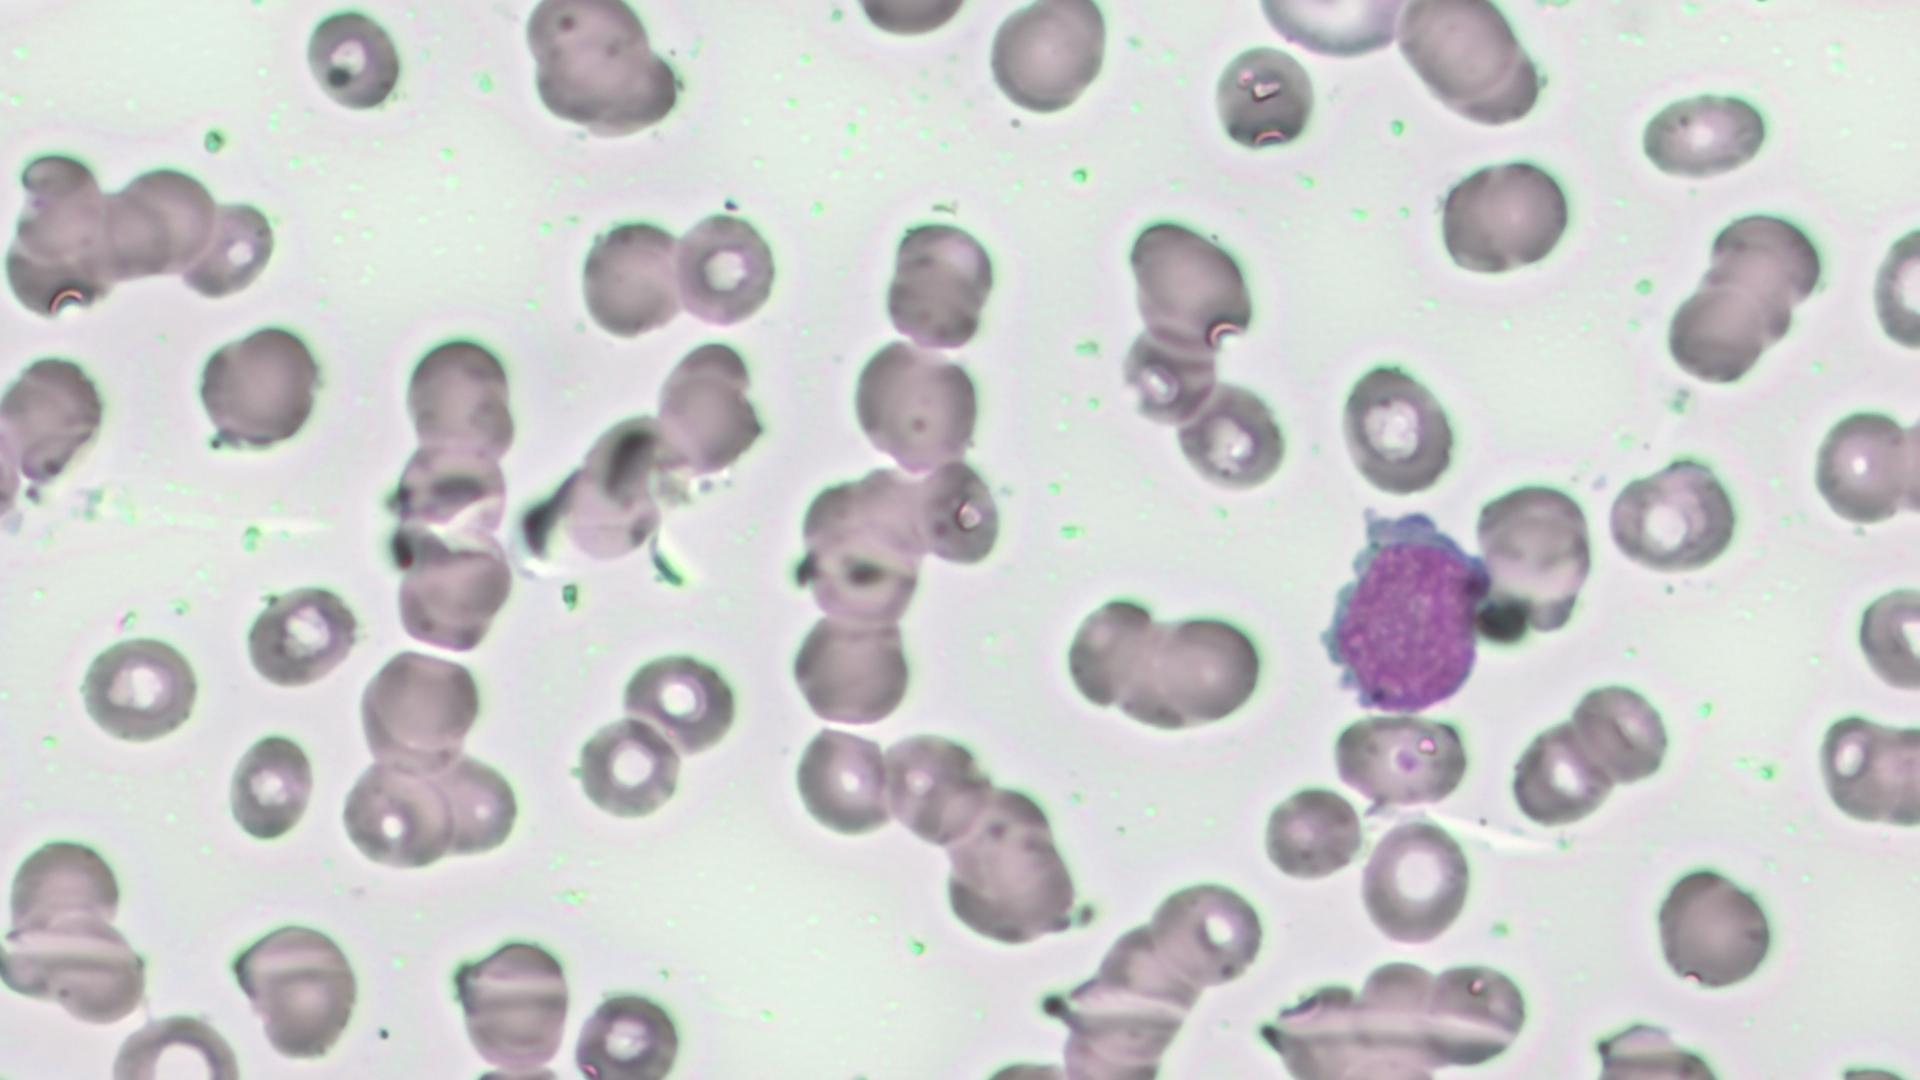Platelets: (21, 483, 40, 505)
RBC: (517, 5, 684, 140), (793, 473, 932, 628), (1122, 211, 1261, 361), (225, 916, 368, 1062), (847, 332, 986, 473), (1429, 152, 1575, 280), (1335, 352, 1461, 498), (446, 934, 579, 1071), (1647, 860, 1776, 994), (194, 318, 322, 451), (785, 604, 918, 729), (562, 409, 670, 563), (1604, 454, 1742, 574), (880, 214, 998, 352), (942, 823, 1077, 943), (353, 645, 484, 767), (404, 330, 517, 468), (982, 0, 1112, 121), (1058, 589, 1176, 721), (1629, 80, 1778, 185), (1356, 818, 1473, 949), (3, 347, 109, 488), (336, 752, 460, 873), (651, 339, 760, 477), (1168, 378, 1292, 498), (574, 211, 690, 339), (75, 630, 202, 746), (388, 538, 516, 651), (1472, 476, 1596, 592), (1150, 605, 1269, 725), (1328, 709, 1472, 808), (673, 206, 782, 334), (1390, 1, 1523, 105), (568, 708, 684, 825), (1207, 38, 1319, 160), (880, 727, 992, 848), (618, 644, 738, 756), (1147, 878, 1271, 986), (1816, 705, 1920, 833), (239, 582, 363, 688), (107, 162, 218, 280), (1807, 404, 1911, 527), (1658, 280, 1778, 384), (1568, 675, 1677, 789), (1509, 713, 1617, 828), (789, 724, 895, 840), (1117, 320, 1222, 429), (225, 727, 319, 848), (568, 984, 688, 1077), (1261, 781, 1364, 884), (1249, 0, 1415, 62), (105, 1010, 247, 1079), (1854, 576, 1920, 699), (1869, 207, 1920, 361), (844, 0, 975, 40), (1878, 406, 1920, 524), (0, 396, 28, 543)
WBC: (1317, 500, 1494, 717)
